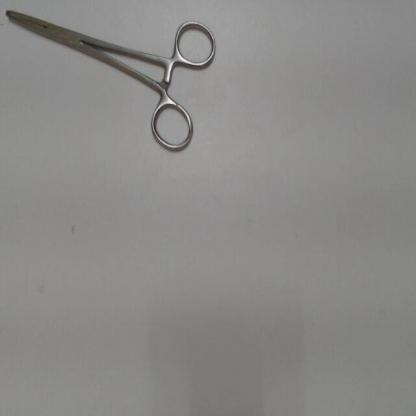Mayo Needle Holder: (1, 5, 222, 164)
